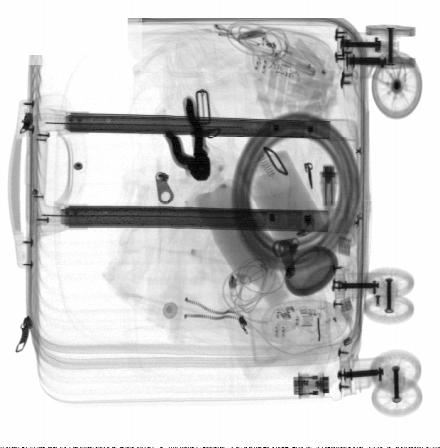Pliers: (163, 95, 212, 181)
